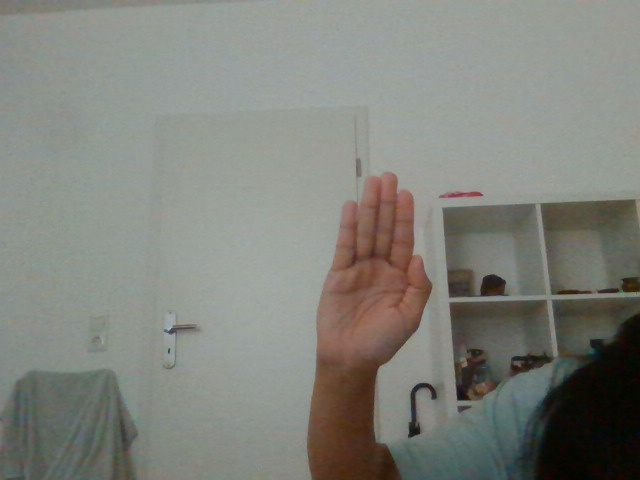Palm: (303, 166, 437, 368)
